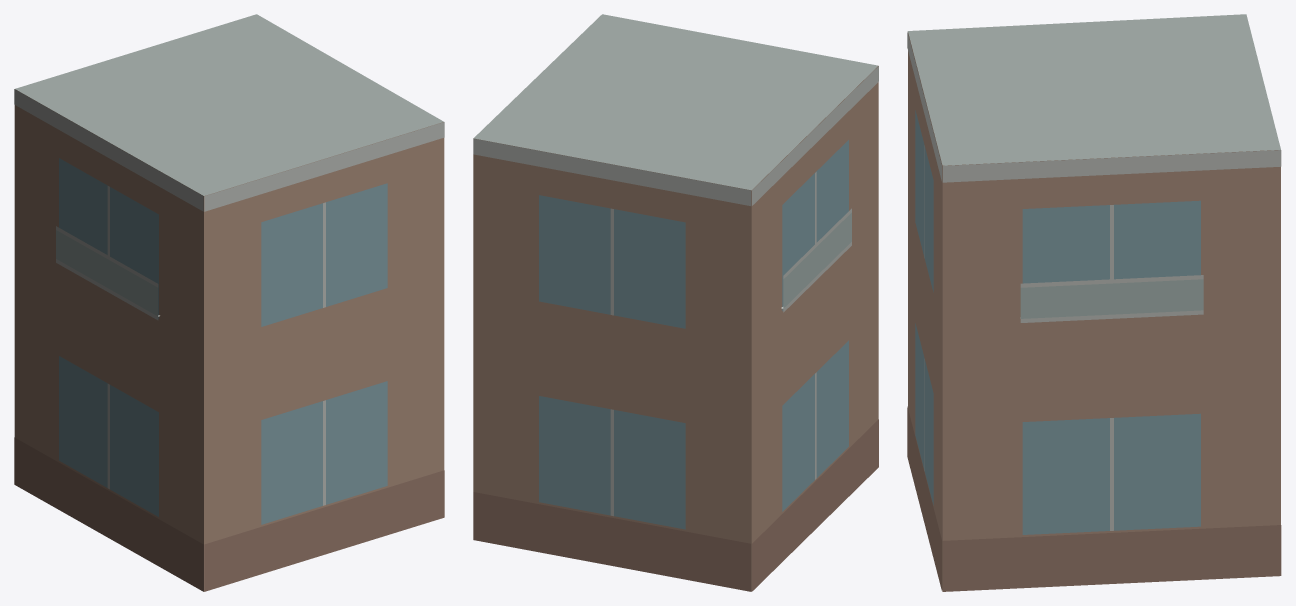
File: survey-upis-32634811.glb
3 views of the same model, side by side, from view 1: azimuth 30°, elevation 25°; view 2: azimuth 150°, elevation 25°; view 3: azimuth 270°, elevation 25° (orthographic). The views are drawn at different scales.
Visible parts, largest first — view 1: survey-upis-32634811.tmp; view 2: survey-upis-32634811.tmp; view 3: survey-upis-32634811.tmp.
Part boxes in pixels (left/top/right/bottom): survey-upis-32634811.tmp: left=14, top=14, right=444, bottom=591; survey-upis-32634811.tmp: left=473, top=14, right=878, bottom=591; survey-upis-32634811.tmp: left=907, top=14, right=1281, bottom=591.
Bounding box in the file's own units: 4.66 × 6.1 × 4.86.
